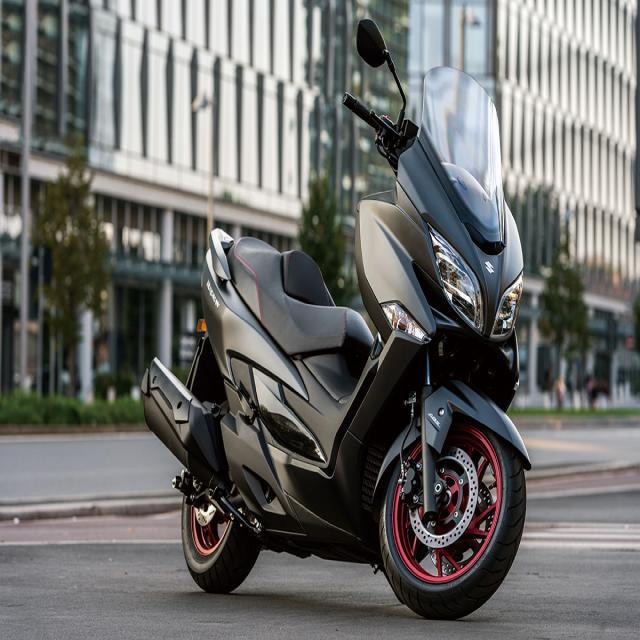Bike: (141, 20, 532, 623)
